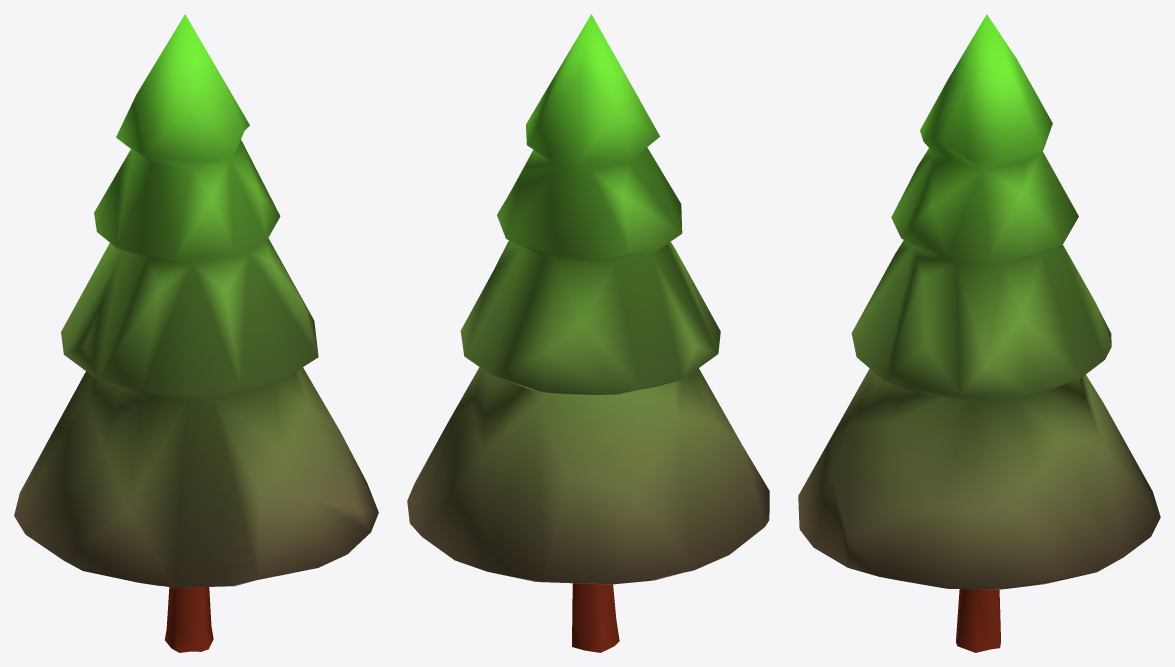
The model's file is Plants_Tree_4.fbx.
The picture shows the model from 3 angles, left to right: view 1: azimuth 30°, elevation 25°; view 2: azimuth 150°, elevation 25°; view 3: azimuth 270°, elevation 25°; orthographic projection.
Visible parts, largest first — view 1: Plants_Tree_4_LOD0; view 2: Plants_Tree_4_LOD0; view 3: Plants_Tree_4_LOD0.
Part boxes in pixels (bbox=[...]): Plants_Tree_4_LOD0: bbox=[14, 14, 378, 652]; Plants_Tree_4_LOD0: bbox=[407, 14, 769, 652]; Plants_Tree_4_LOD0: bbox=[798, 14, 1160, 652].
Size of what is drawn, in the model's own units: 225 by 433 by 226.
